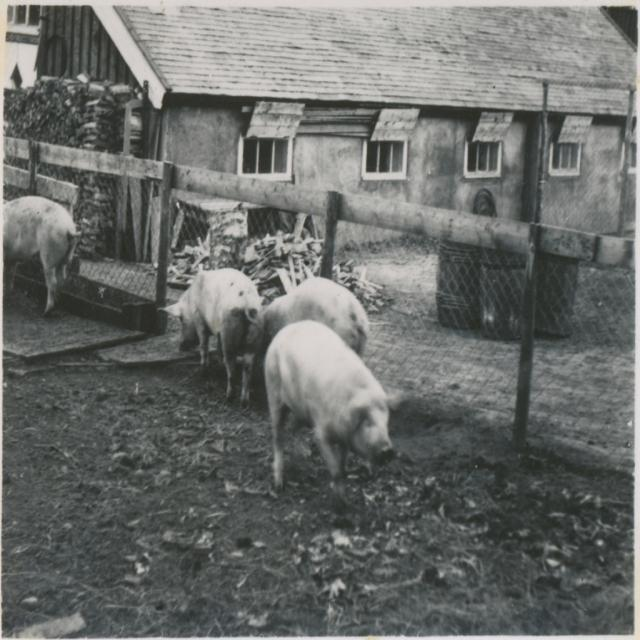Pig: (264, 322, 398, 503), (156, 267, 264, 411), (0, 195, 83, 319), (262, 275, 370, 362)
